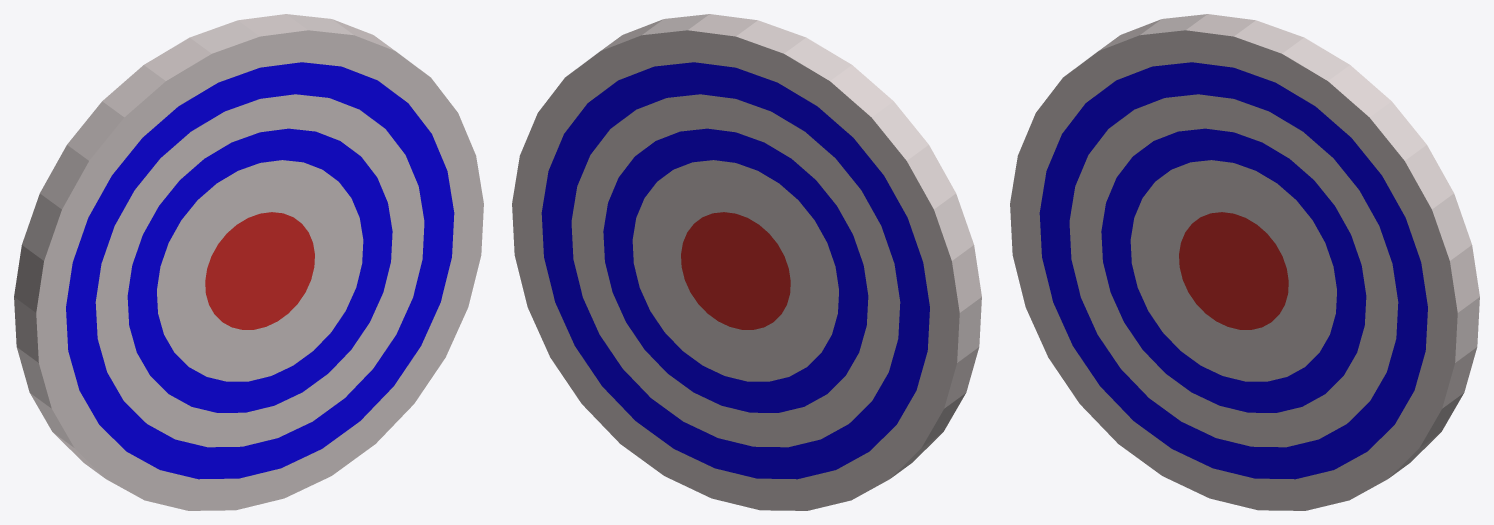
The model's file is Target.fbx.
3 views of the same model, side by side, from view 1: azimuth 30°, elevation 25°; view 2: azimuth 150°, elevation 25°; view 3: azimuth 330°, elevation 25° (orthographic).
Parts seen in each view (by area): view 1: Target.001; view 2: Target.001; view 3: Target.001.
Part boxes in pixels (bbox=[...]): Target.001: bbox=[14, 14, 483, 510]; Target.001: bbox=[512, 14, 981, 510]; Target.001: bbox=[1010, 14, 1479, 510].
Bounding box in the file's own units: 57.44 × 57.35 × 4.94.
